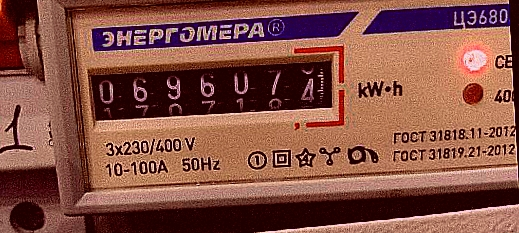0: (94, 77, 117, 106), (231, 66, 251, 96), (130, 75, 149, 102)
4: (298, 76, 316, 105)
6: (196, 68, 216, 99)
7: (264, 65, 284, 95)
9: (163, 72, 183, 101)
screen: (72, 41, 350, 140)
